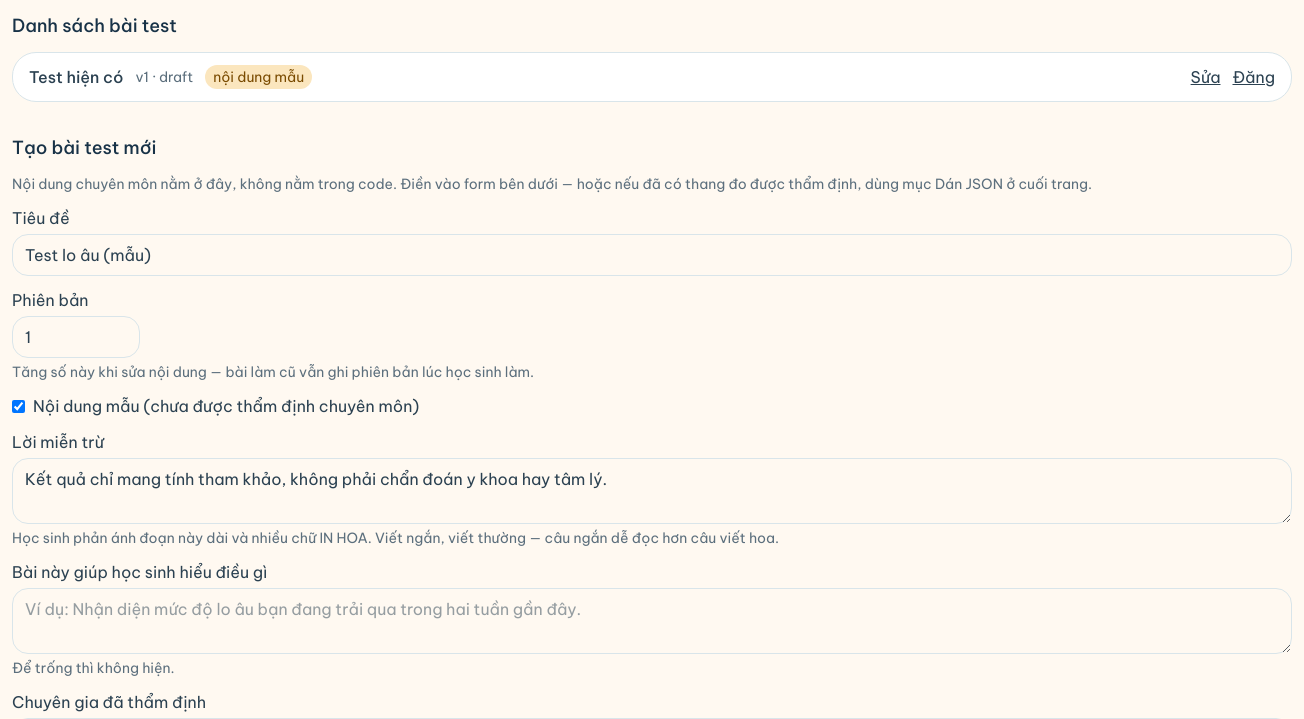
TestEditor › bấm Đăng gọi publishTest với publish=true rồi tải lại danh sách
The width and height of the screenshot is (1304, 719).
expect the text "Test hiện có" is shown: met, box [29,65,123,89]
Click the button "Đăng". click: (1254, 77)
box: [1232,65,1275,89]
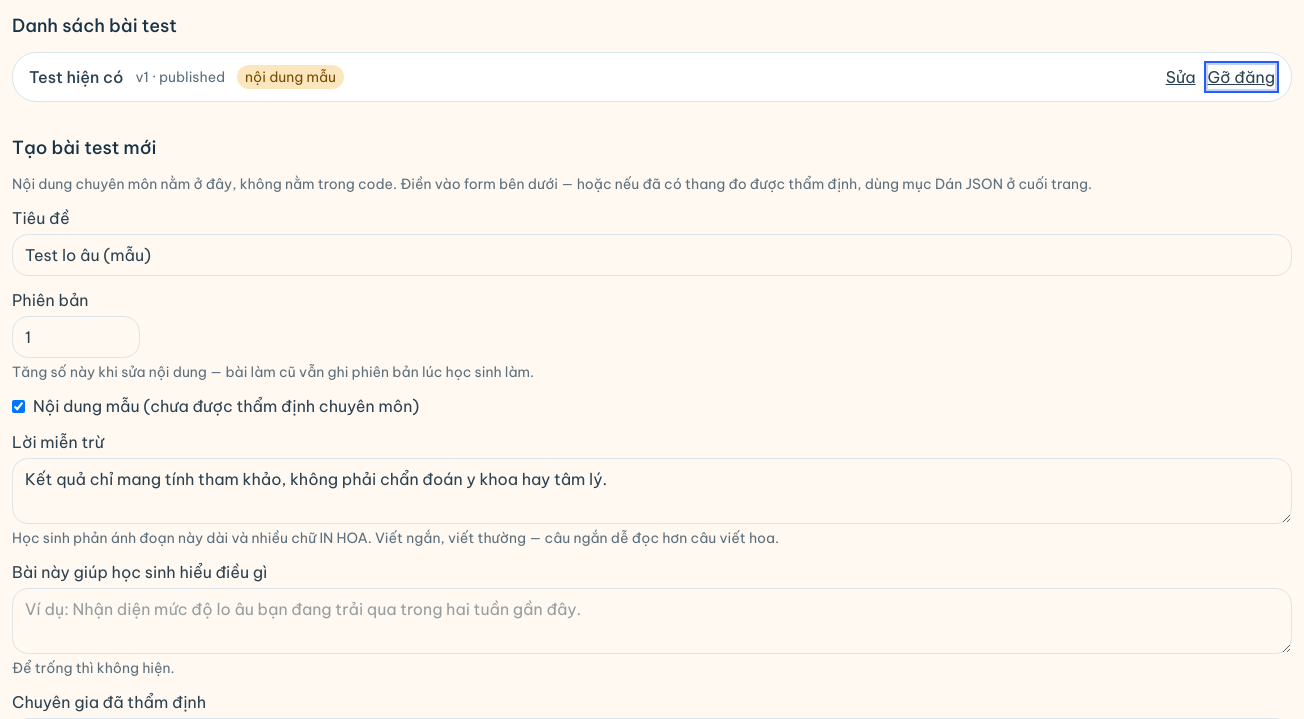
expect the text "v1 · published" is shown: met, box [135,67,225,87]
